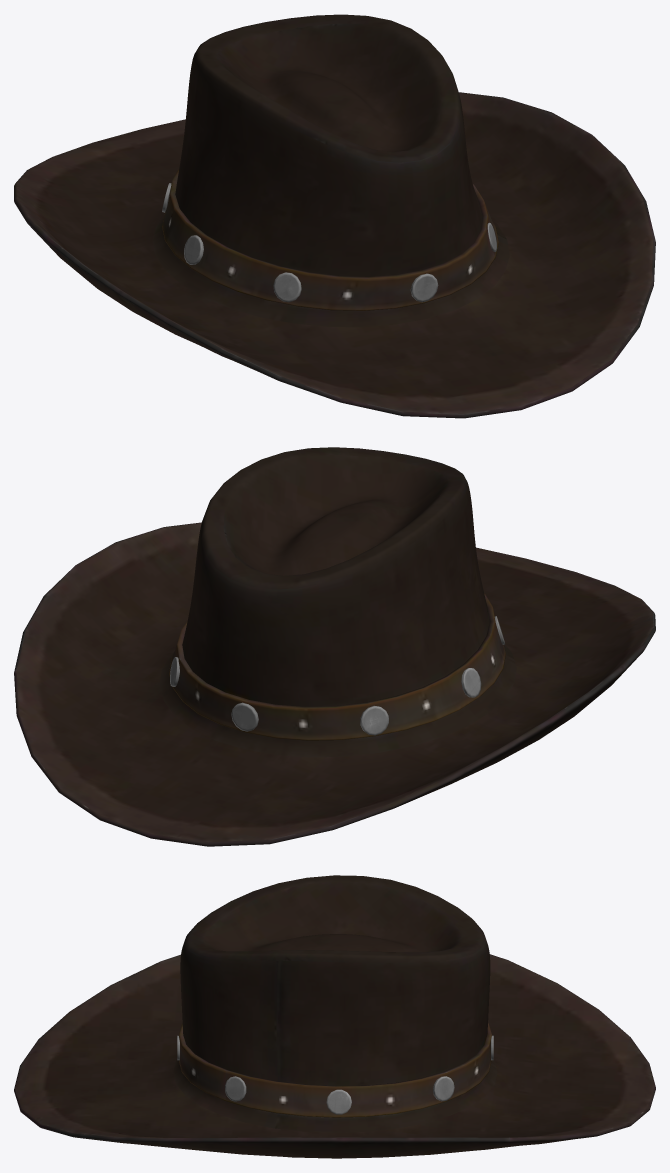
File: Hat4-2.glb
3 renders of one model, top to bottom at view 1: azimuth 30°, elevation 25°; view 2: azimuth 150°, elevation 25°; view 3: azimuth 270°, elevation 25°, orthographic. The views are drawn at different scales.
Visible parts, largest first — view 1: Hat; view 2: Hat; view 3: Hat.
Part boxes in pixels (x1,y1,x2,y2): Hat: [14, 14, 655, 418]; Hat: [14, 447, 655, 846]; Hat: [14, 875, 655, 1158].
Bounding box in the file's own units: 4.56 × 1.77 × 5.79.
1 material, 1 textured.
